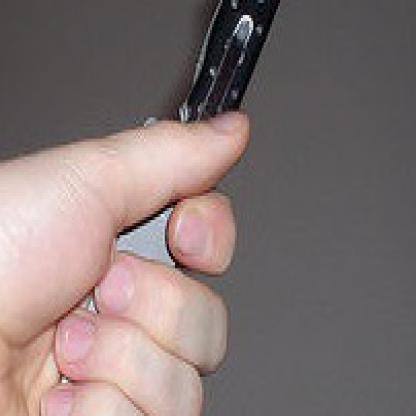knife: (17, 0, 313, 413)
